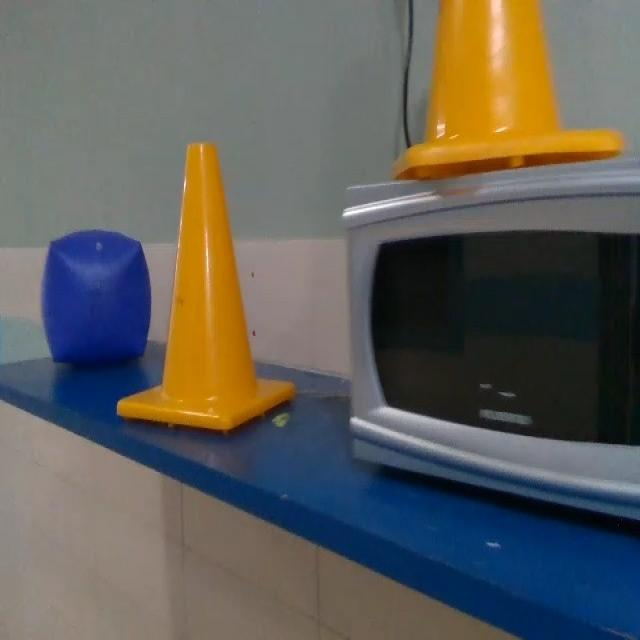cone: (118, 141, 296, 433), (390, 0, 622, 179)
cube: (42, 230, 152, 366)
